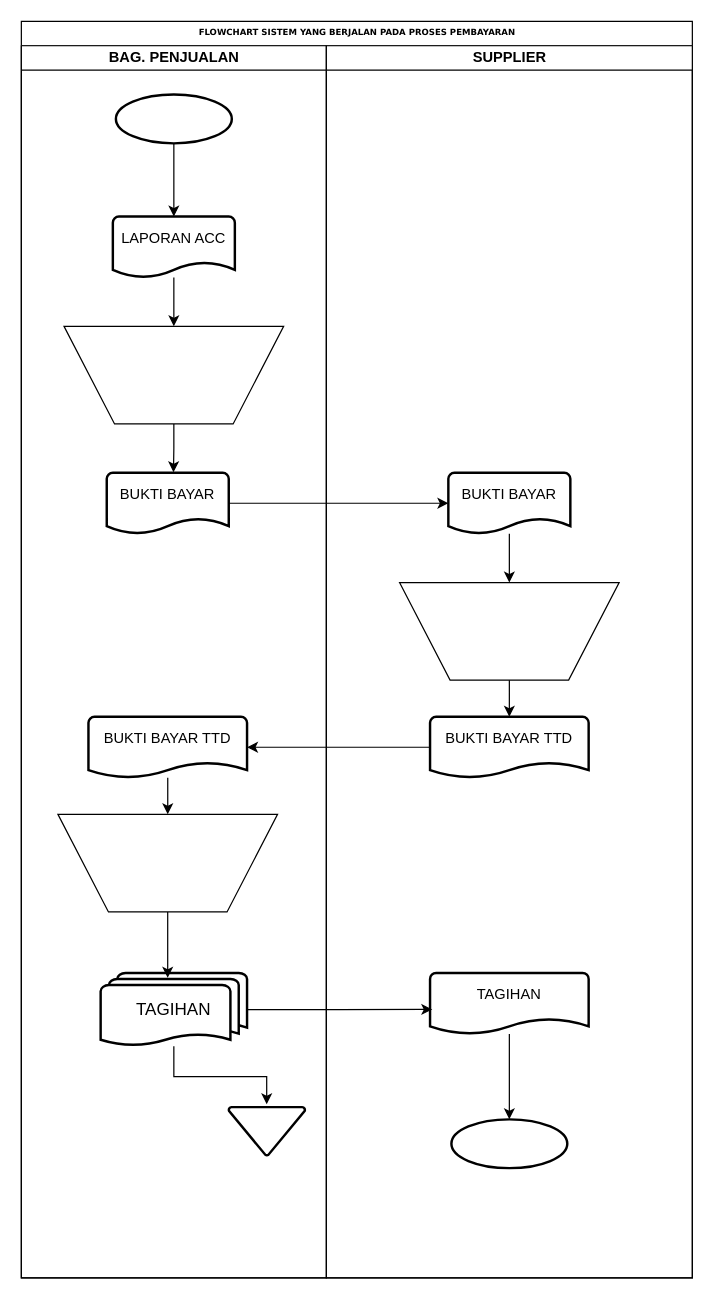
Some shapes in this 714 by 1299 pixel diagram are drawn without their labels. Each missing label, with the centre of its shape:
"END" belongs at pixel 509 1143.
"MENANDATANGANI BUKTI BAYAR" belongs at pixel 508 630.
"MENGHITUNG BARANG DAN MEMBUAT BUKTI BAYAR" belongs at pixel 173 374.
"PROSES PEMBUATAN TAGIHAN" belongs at pixel 167 862.
"START" belongs at pixel 173 118.
